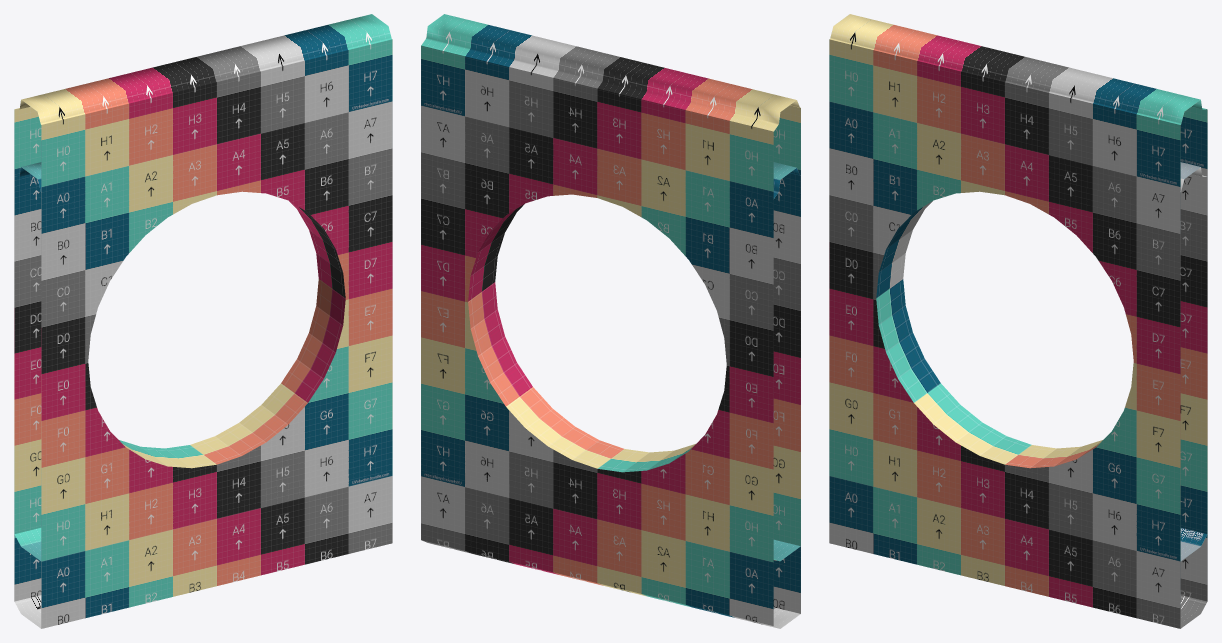
Rendered from panelWindowRound290_manMorph7.glb.
The picture shows the model from 3 angles, left to right: view 1: azimuth 30°, elevation 25°; view 2: azimuth 150°, elevation 25°; view 3: azimuth 330°, elevation 25°; orthographic projection.
Parts seen in each view (by area): view 1: panelClosed.001, panelClosed.002Max; view 2: panelClosed.001, panelClosed.002Max; view 3: panelClosed.001, panelClosed.002Max.
Boxes of the visible parts, x1,y1,x2,y2 form: panelClosed.001: [14, 107, 392, 561]; panelClosed.002Max: [14, 14, 392, 628]; panelClosed.001: [421, 113, 800, 561]; panelClosed.002Max: [421, 14, 800, 628]; panelClosed.001: [829, 107, 1207, 561]; panelClosed.002Max: [829, 14, 1207, 628].
Size of the model in its own units: 0.3 by 0.42 by 0.04.
1 material, 1 textured.
